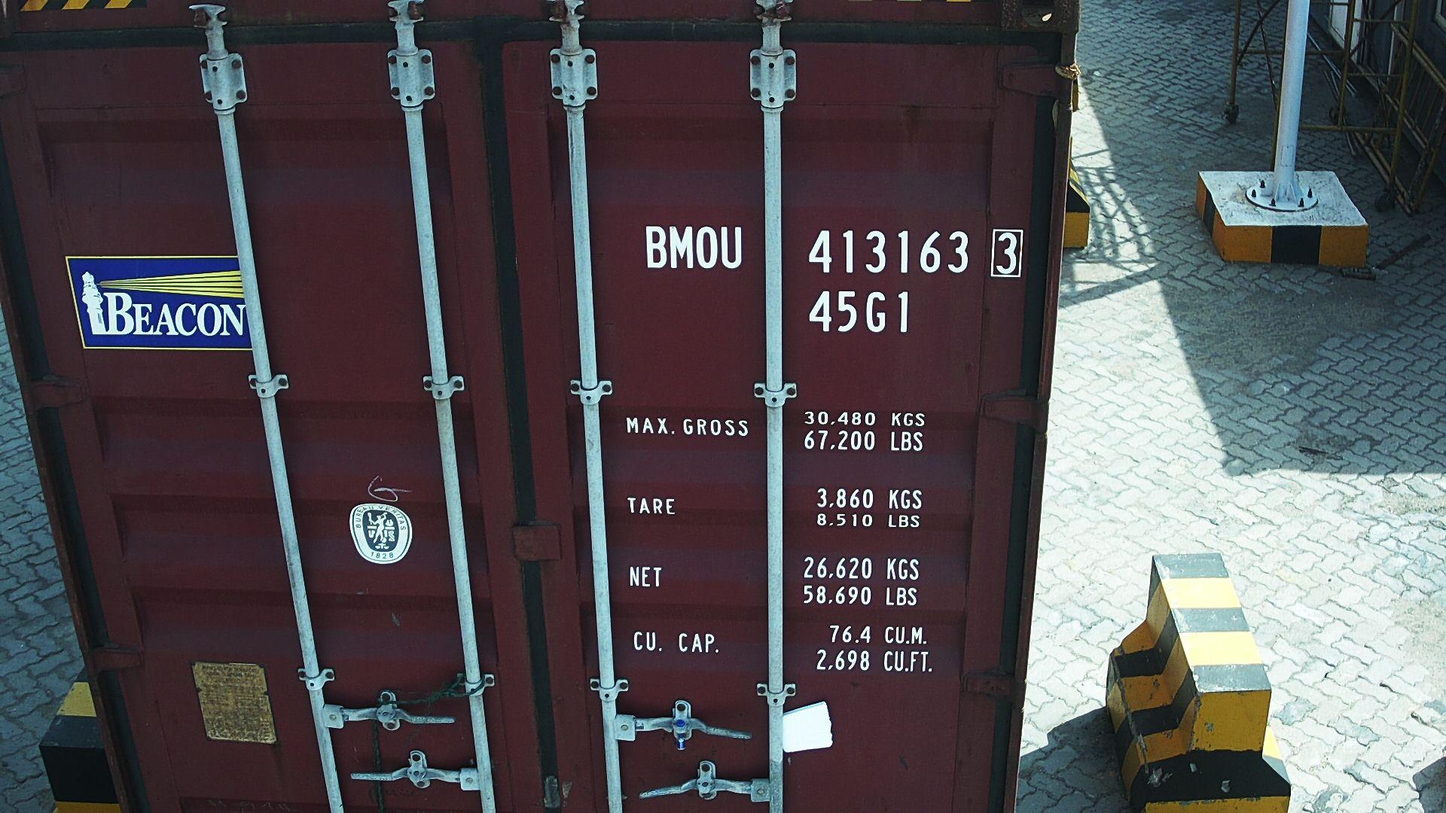container-numbers: (640, 221, 1028, 281), (804, 286, 914, 336)
